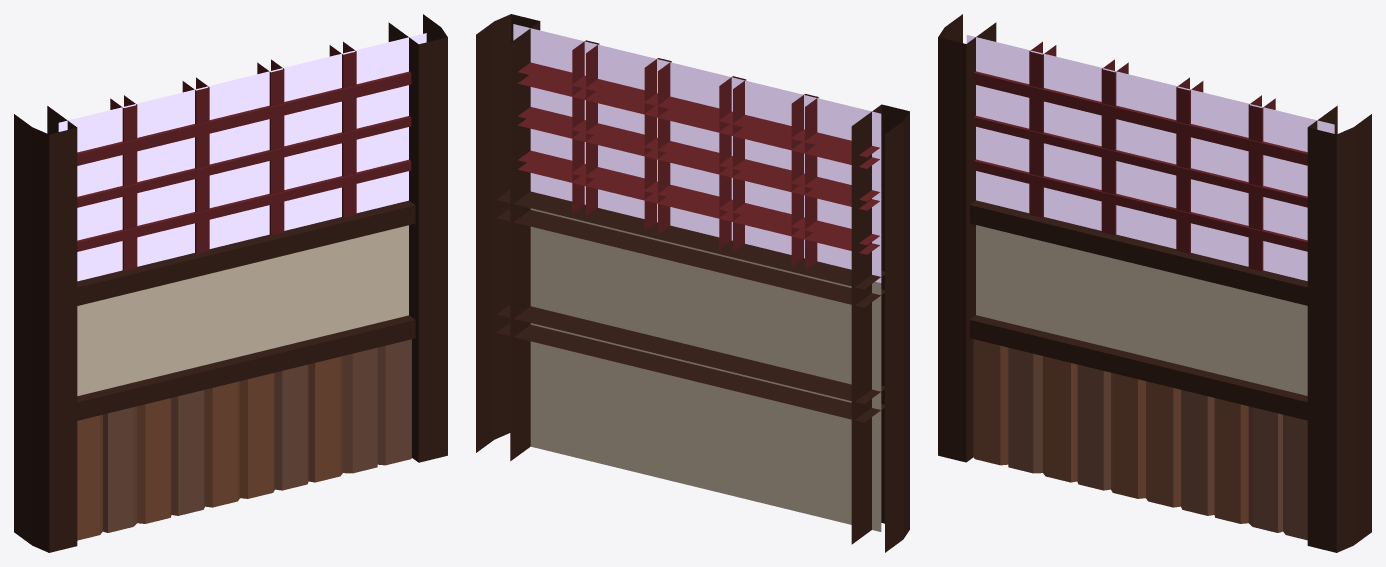
Rendered from BuildingWall_4_2  Asia.fbx.
3 views of the same model, side by side, from view 1: azimuth 30°, elevation 25°; view 2: azimuth 150°, elevation 25°; view 3: azimuth 330°, elevation 25° (orthographic).
Visible parts, largest first — view 1: BuildingWall_4_2; view 2: BuildingWall_4_2; view 3: BuildingWall_4_2.
Boxes of the visible parts, x1,y1,x2,y2 form: BuildingWall_4_2: [14, 14, 447, 552]; BuildingWall_4_2: [476, 14, 909, 552]; BuildingWall_4_2: [938, 14, 1371, 552].
Size of the model in its own units: 2 by 1.96 by 0.254.
